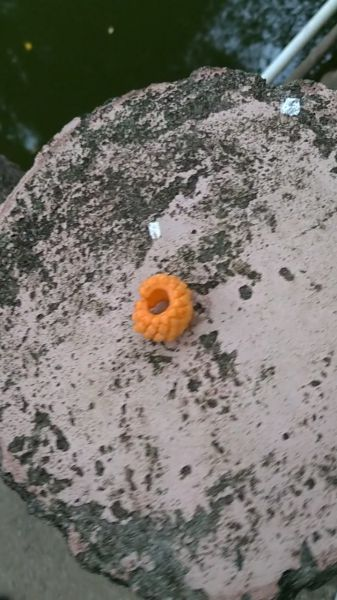eggs: (124, 266, 197, 344)
